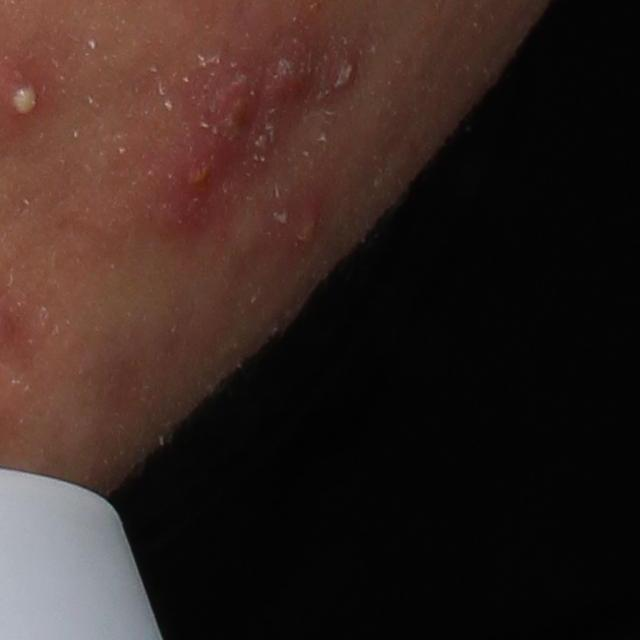papule: (204, 72, 260, 147), (262, 54, 315, 102)
